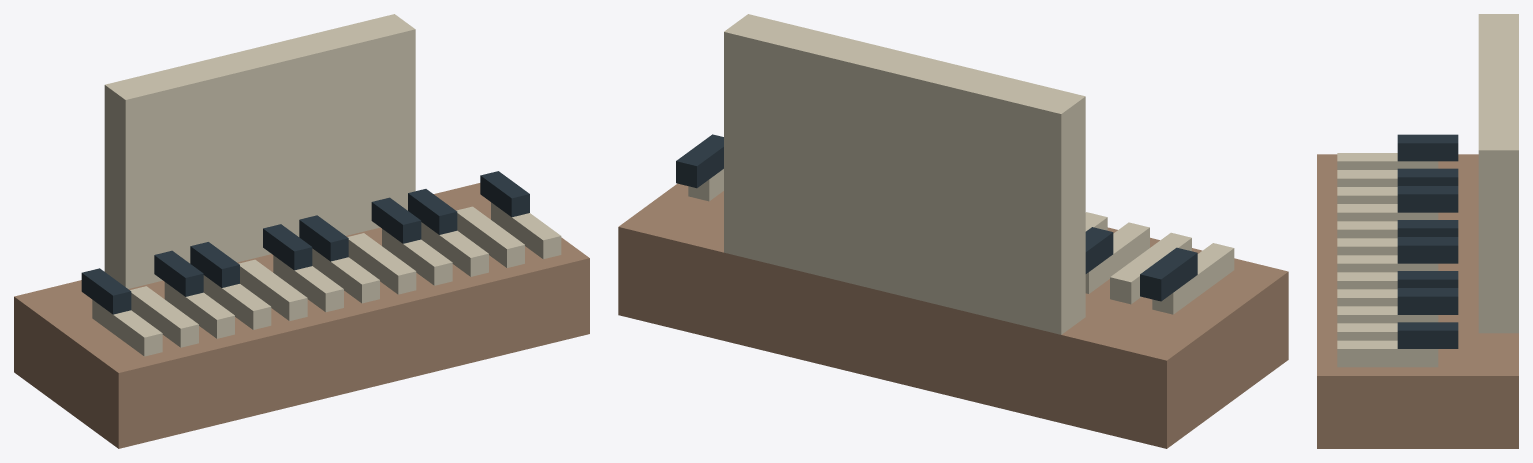
File: publishing-04.glb
3 renders of one model, left to right at view 1: azimuth 30°, elevation 25°; view 2: azimuth 150°, elevation 25°; view 3: azimuth 270°, elevation 25°, orthographic. The views are drawn at different scales.
Parts seen in each view (by area): view 1: Typewriter; view 2: Typewriter; view 3: Typewriter.
Boxes of the visible parts, x1,y1,x2,y2 form: Typewriter: (14,14,589,448); Typewriter: (618,14,1288,448); Typewriter: (1317,14,1518,448).
Size of the model in its own units: 2.08 by 1.12 by 0.8.
